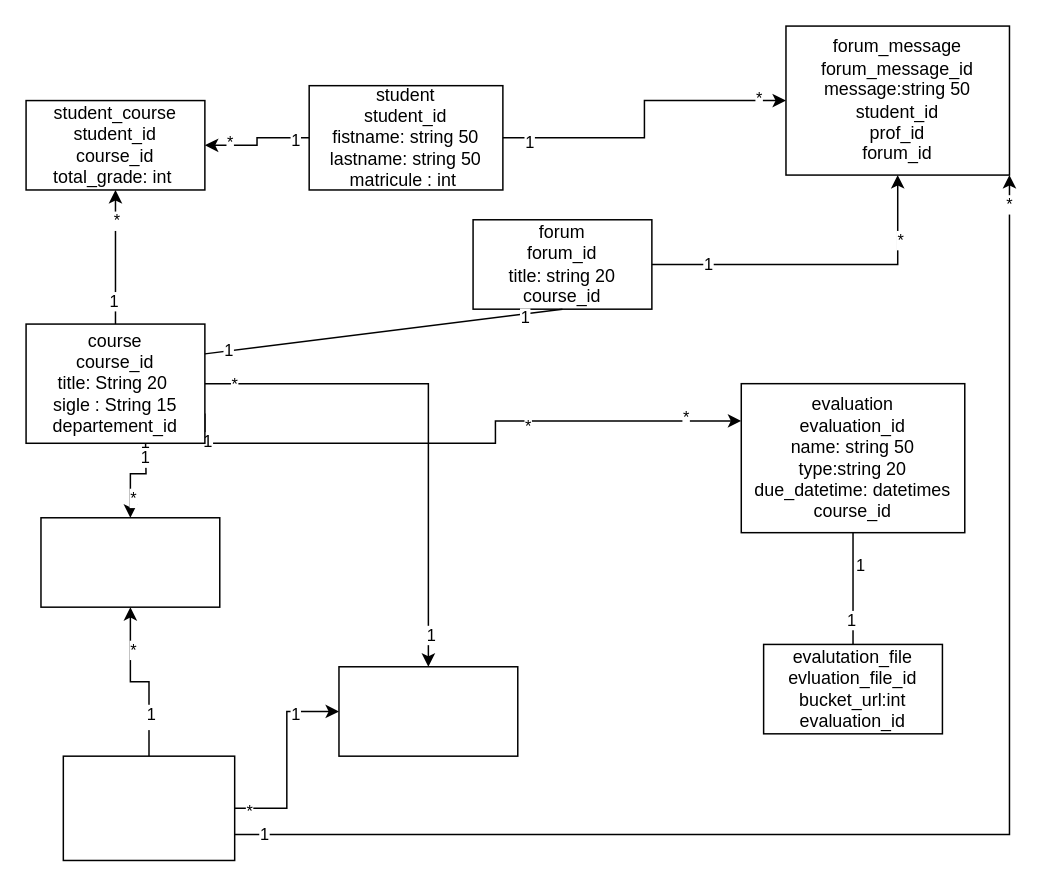
Image size: 1047x888. Some labels were removed from this diagram. The shapes that lost their labels are listed below. From the top down, each one's centre as x and y in pixels, then its label:
At (x=129, y=561): "prof_course prof_id course_id".
At (x=427, y=710): "departement departement_id title:string 30".
At (x=148, y=807): "prof prof_id firstname:string 50 lastname: 50 department_id".
